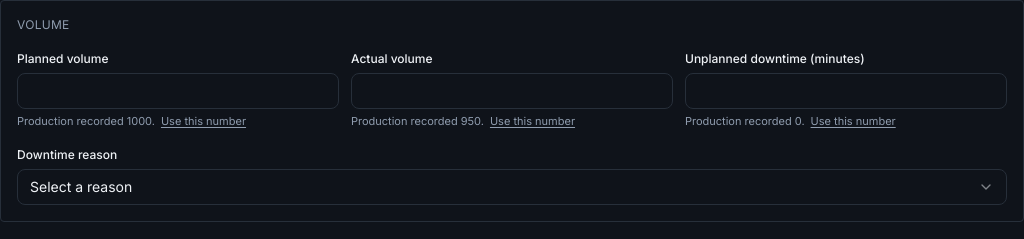
Test: VolumePillar › still offers a zero that IS a fact — no unplanned downtime is a real result
Click the button "Use this number" below "Unplanned downtime (minutes)": (853,121) [811, 113, 896, 129]
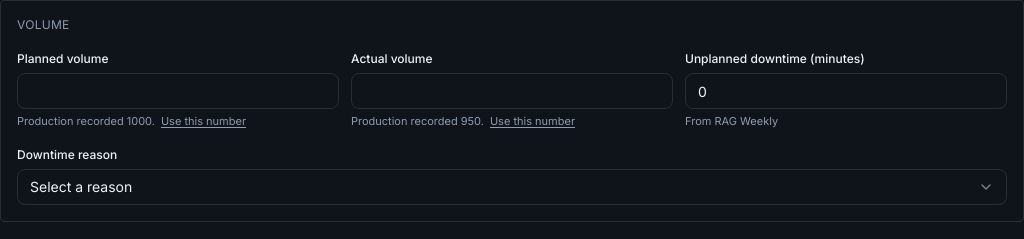
expect the number field labelled "Unplanned downtime (minutes)" holds "0": met, box [685, 73, 1007, 109]
